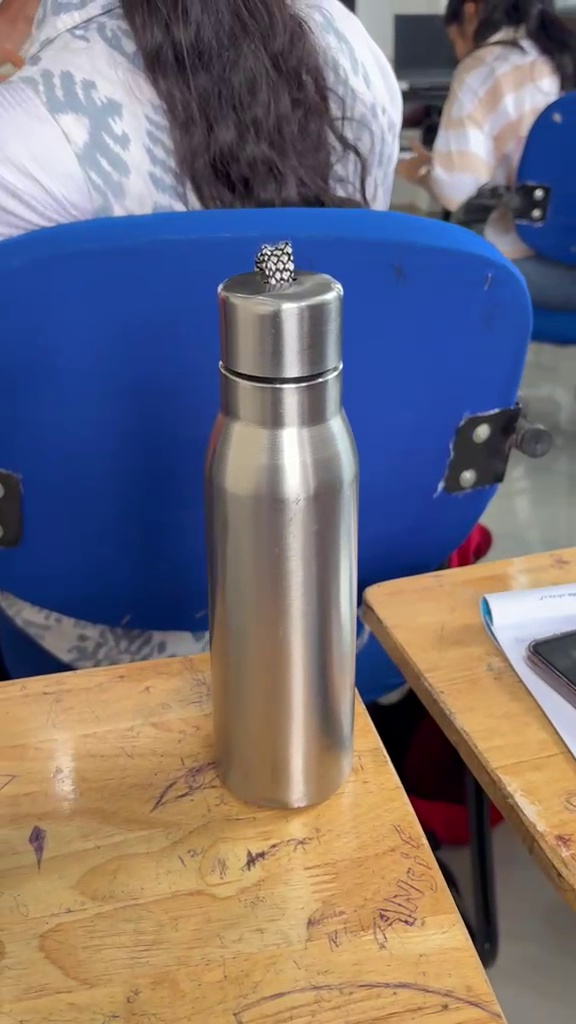Bottle: (192, 228, 379, 829)
